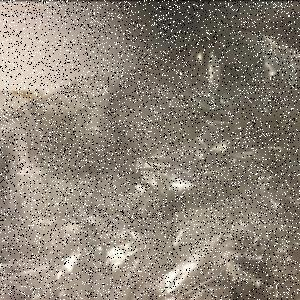Trash: (2, 14, 300, 300)
